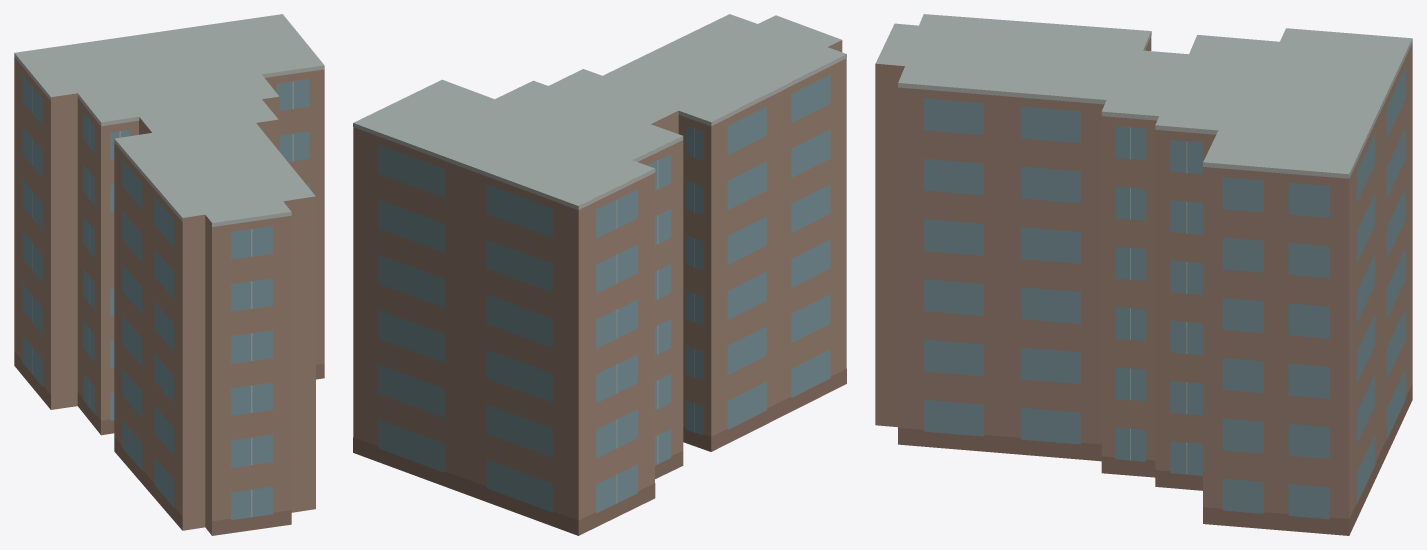
File: survey-upis-33004917.glb
The picture shows the model from 3 angles, left to right: view 1: azimuth 30°, elevation 25°; view 2: azimuth 150°, elevation 25°; view 3: azimuth 270°, elevation 25°; orthographic projection. The views are drawn at different scales.
Parts seen in each view (by area): view 1: survey-upis-33004917.tmp; view 2: survey-upis-33004917.tmp; view 3: survey-upis-33004917.tmp.
Part boxes in pixels (x1,y1,x2,y2): survey-upis-33004917.tmp: (14,14,324,535); survey-upis-33004917.tmp: (353,14,846,535); survey-upis-33004917.tmp: (875,14,1412,535).
Size of the model in its own units: 18.5 by 19.45 by 26.19.
